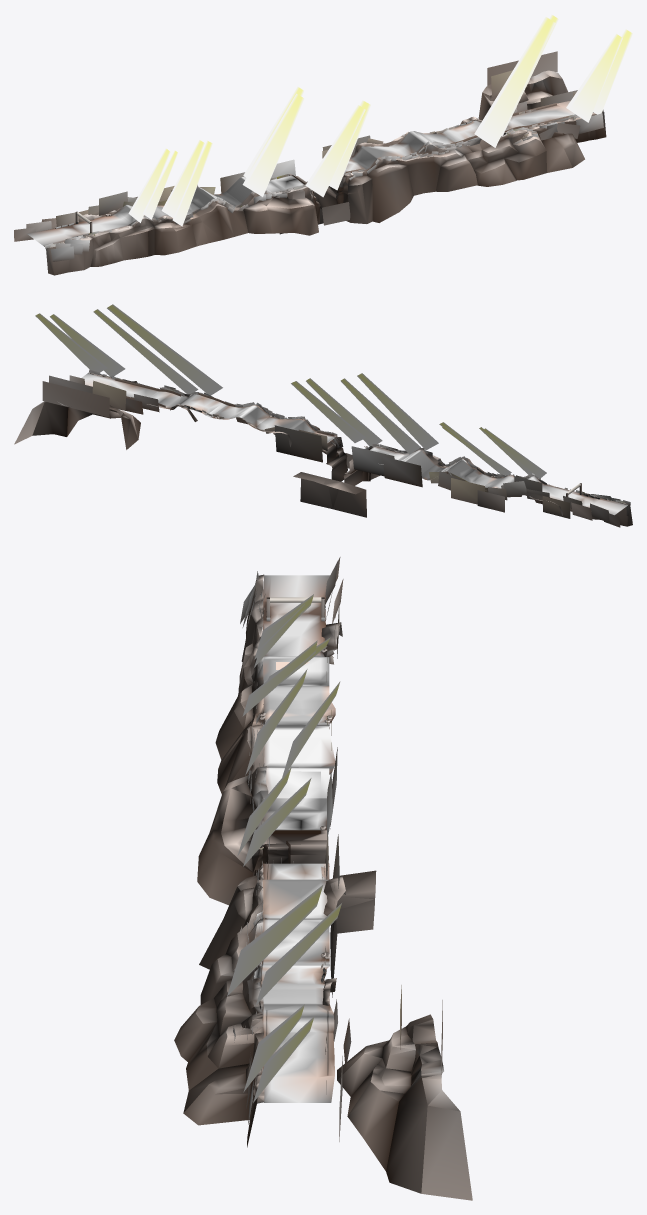
The model's file is Forest_03.fbx.
3 views of the same model, one above another, from view 1: azimuth 30°, elevation 25°; view 2: azimuth 150°, elevation 25°; view 3: azimuth 270°, elevation 25° (orthographic). The views are drawn at different scales.
Parts seen in each view (by area): view 1: Mountain_01, Light_01, Tree_01, Ground_01; view 2: Tree_01, Light_01, Mountain_01, Ground_01, Leak_01; view 3: Mountain_01, Ground_01, Light_01, Tree_01.
Boxes of the visible parts, box(x1,y1,x2,y2) form: Mountain_01: box(44, 70, 606, 275); Light_01: box(128, 14, 632, 226); Tree_01: box(14, 51, 603, 261); Ground_01: box(27, 100, 574, 245); Tree_01: box(42, 369, 630, 527); Light_01: box(35, 304, 546, 478); Mountain_01: box(14, 372, 632, 526); Ground_01: box(82, 373, 627, 515); Leak_01: box(115, 378, 334, 436); Mountain_01: box(174, 574, 472, 1200); Ground_01: box(254, 575, 335, 1102); Light_01: box(227, 594, 341, 1102); Tree_01: box(233, 557, 442, 1141).
Bounding box in the file's own units: 30389 × 7350 × 6637.
